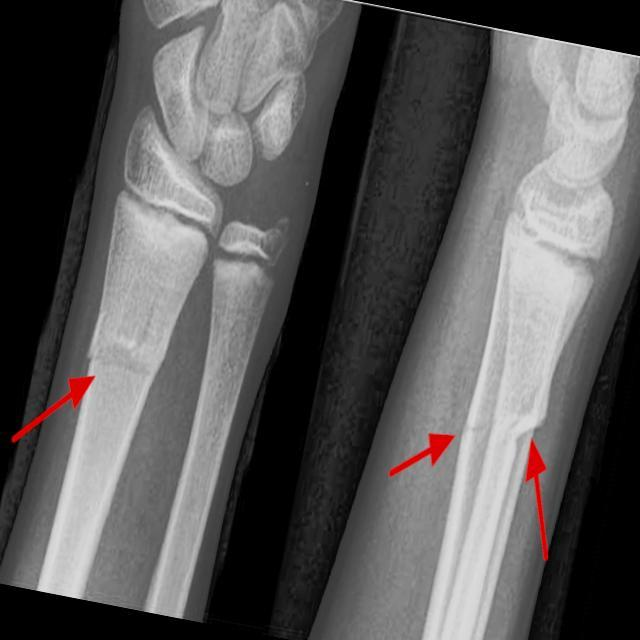GreenStick Fracture: (86, 339, 156, 384), (498, 413, 543, 450), (462, 413, 493, 439)
